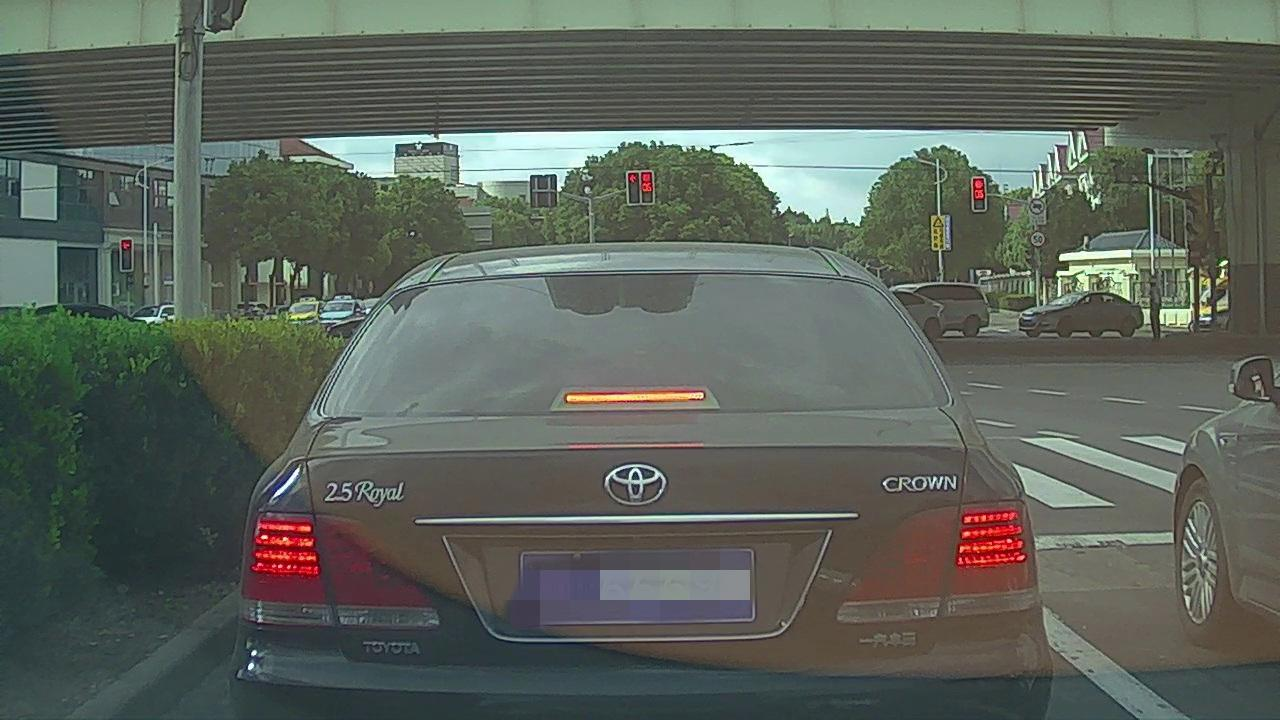traffic_light: (973, 178, 987, 213), (120, 238, 134, 272), (641, 170, 655, 202), (628, 171, 639, 204)
